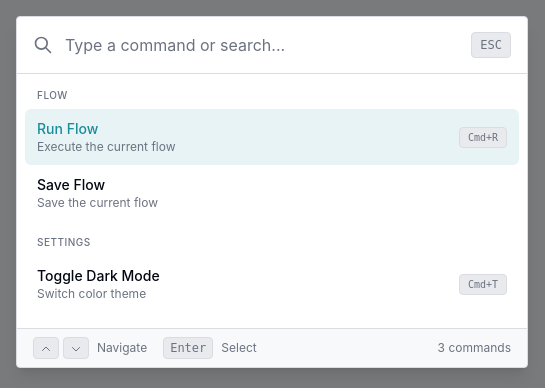
CommandPalette › shows "No commands found" when no match
In the field with placeholder "Type a command or search...": {"x": 268, "y": 45} [65,17,471,73], type "zzzzzzz"
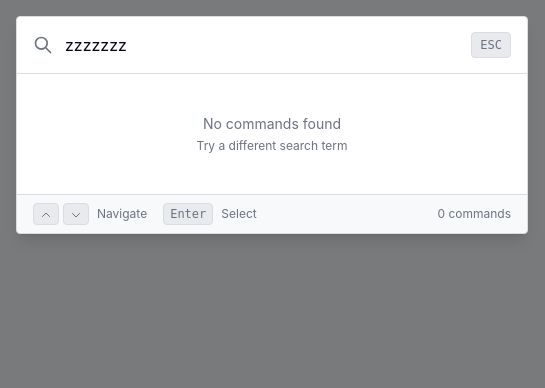
Now the text "No commands found" is shown, box [203,115,341,132]
